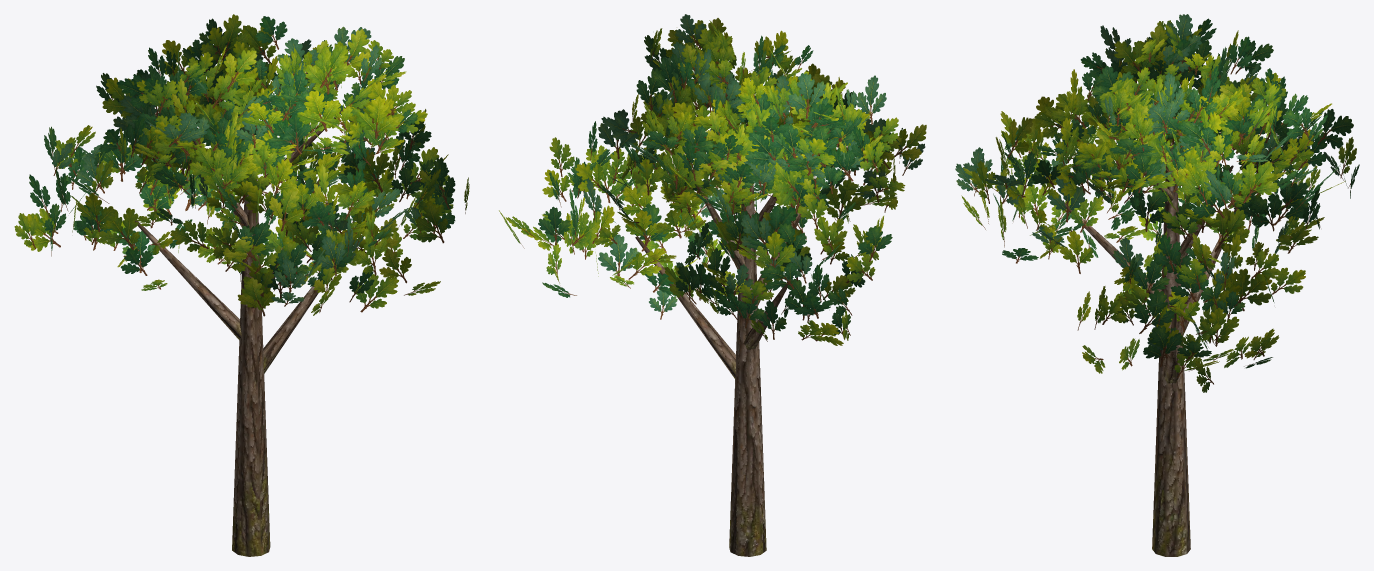
Rendered from tree.glb.
The picture shows the model from 3 angles, left to right: view 1: azimuth 30°, elevation 25°; view 2: azimuth 150°, elevation 25°; view 3: azimuth 270°, elevation 25°; orthographic projection. The views are drawn at different scales.
Parts seen in each view (by area): view 1: GEO-tree; view 2: GEO-tree; view 3: GEO-tree.
Part boxes in pixels (<box>): GEO-tree: <box>14,14,469,556</box>; GEO-tree: <box>499,14,926,556</box>; GEO-tree: <box>955,14,1359,556</box>.
Bounding box in the file's own units: 3.22 × 4.02 × 2.92.
Materials: 2 (2 with a texture image).
